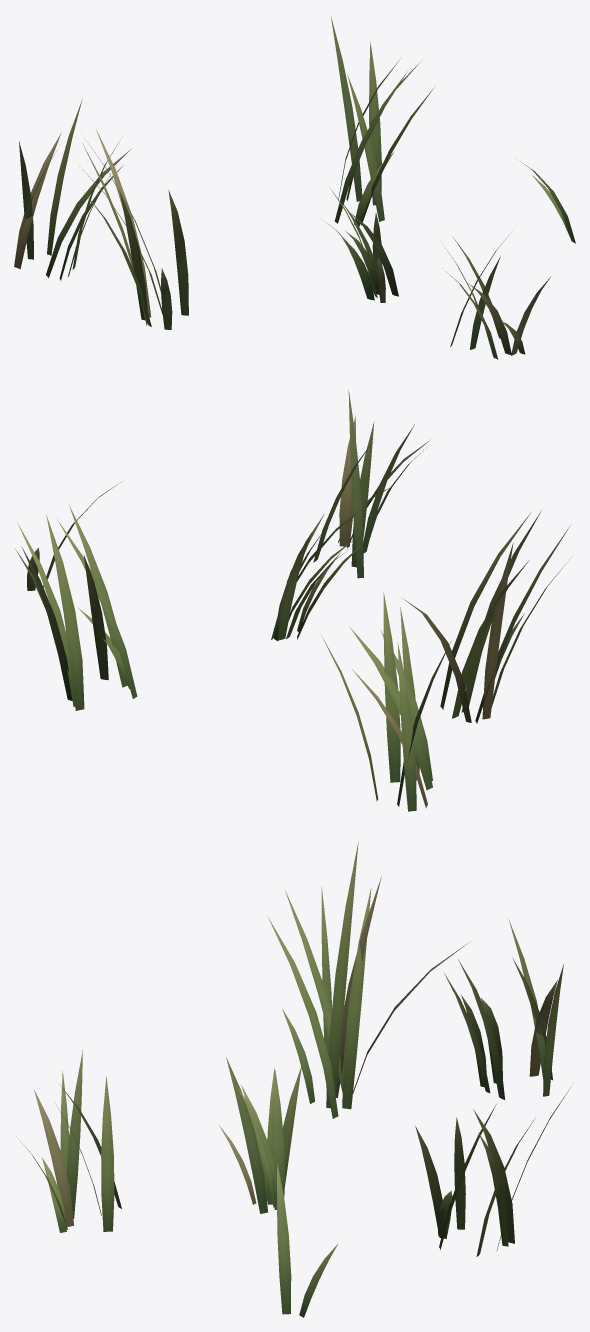
The model's file is meadow_broad.gltf.
The picture shows the model from 3 angles, top to bottom: view 1: azimuth 30°, elevation 25°; view 2: azimuth 150°, elevation 25°; view 3: azimuth 270°, elevation 25°; orthographic projection. The views are drawn at different scales.
Visible parts, largest first — view 1: meadow_broad; view 2: meadow_broad; view 3: meadow_broad.
Part boxes in pixels (x1,y1,x2,y2): meadow_broad: [14, 15, 575, 359]; meadow_broad: [15, 390, 571, 811]; meadow_broad: [16, 841, 570, 1317].
Bounding box in the file's own units: 1.22 × 0.4928 × 1.11.
3 materials, 3 textured.
